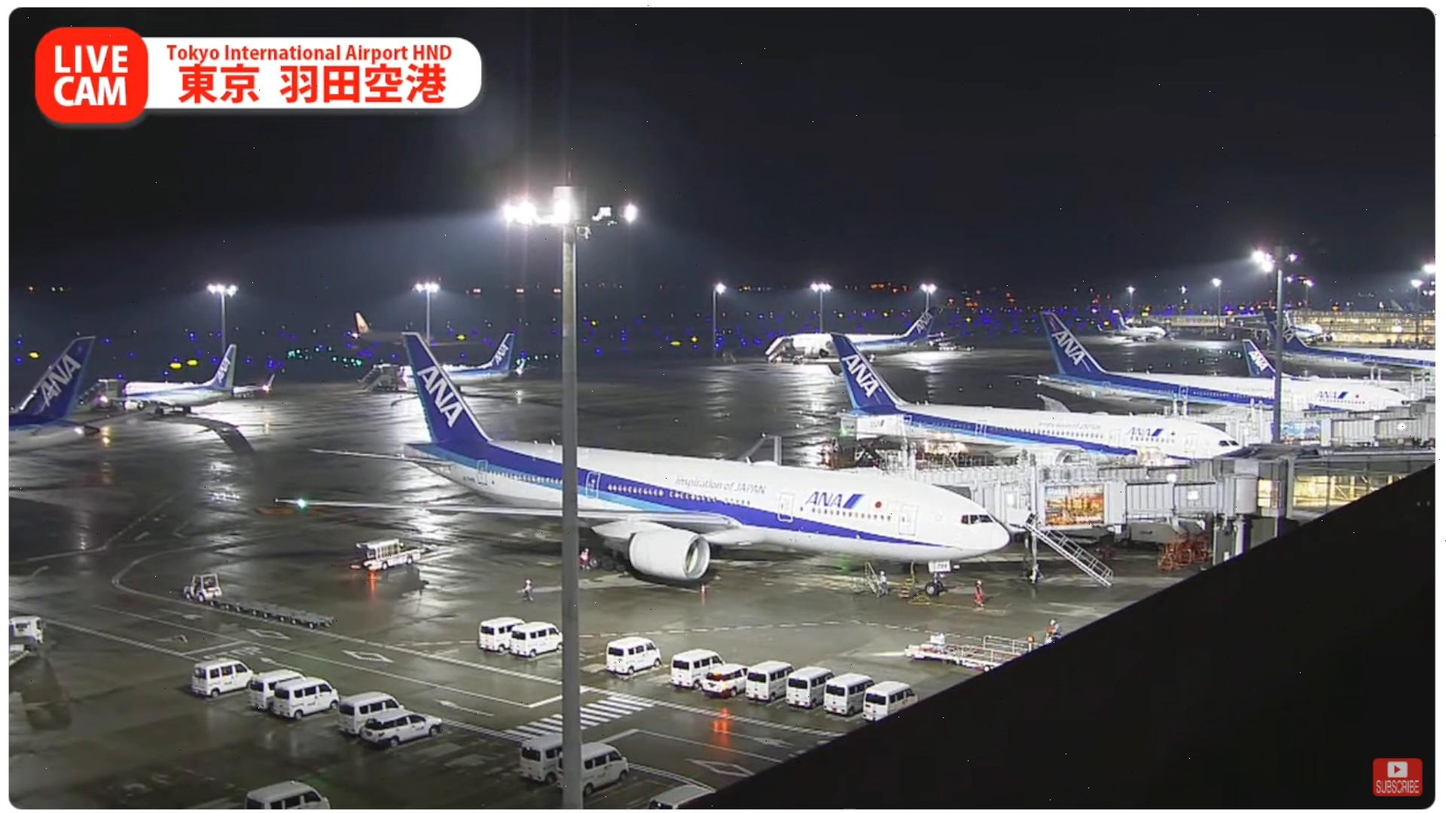Aerobridge: (901, 454, 1290, 516), (984, 473, 1277, 543)
Airplane: (266, 327, 1018, 584)
Dolly: (217, 589, 341, 641)
JCPL: (898, 634, 1015, 675), (950, 628, 1054, 653)
Skyloader: (350, 530, 428, 575)
Tractor: (176, 570, 228, 611)
Window: (1291, 459, 1429, 518)
